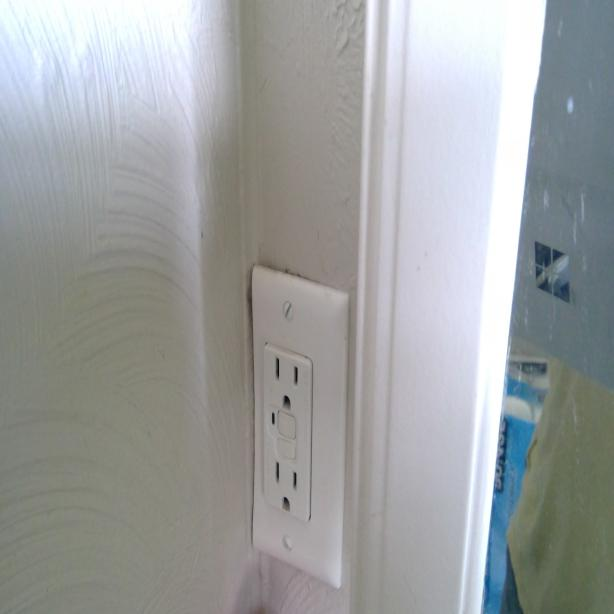typeb: (263, 347, 308, 418), (264, 450, 310, 518)
